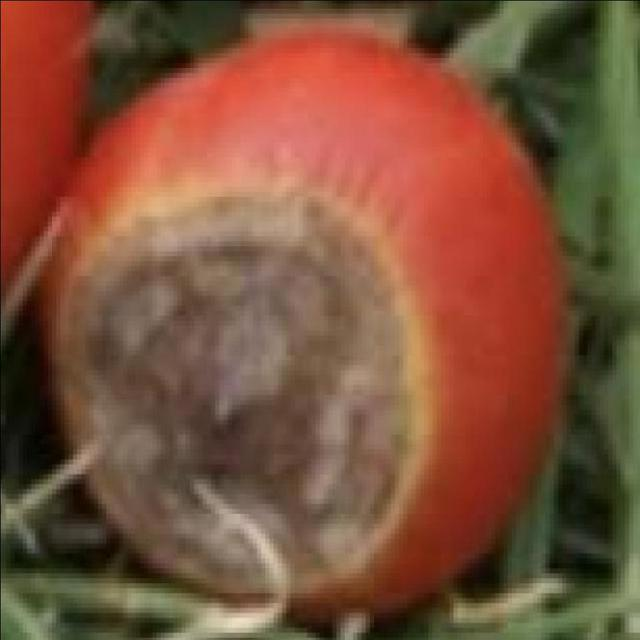Blossom End Rot Fruit: (38, 108, 291, 400)
